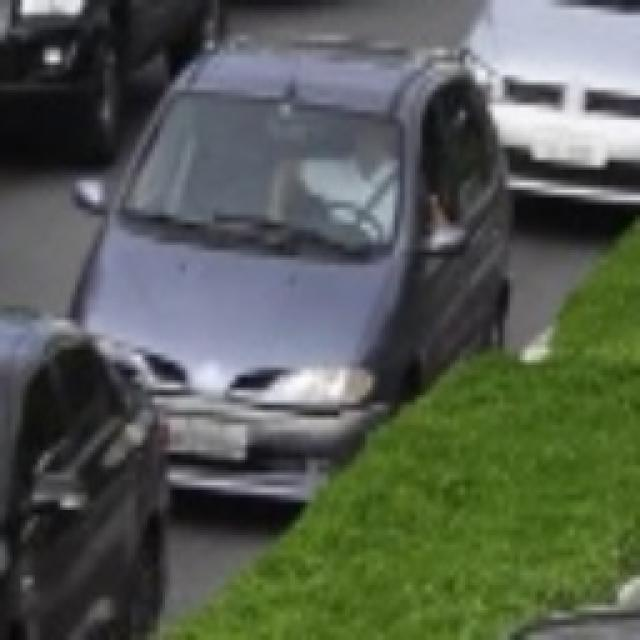windshield: (114, 89, 413, 260)
